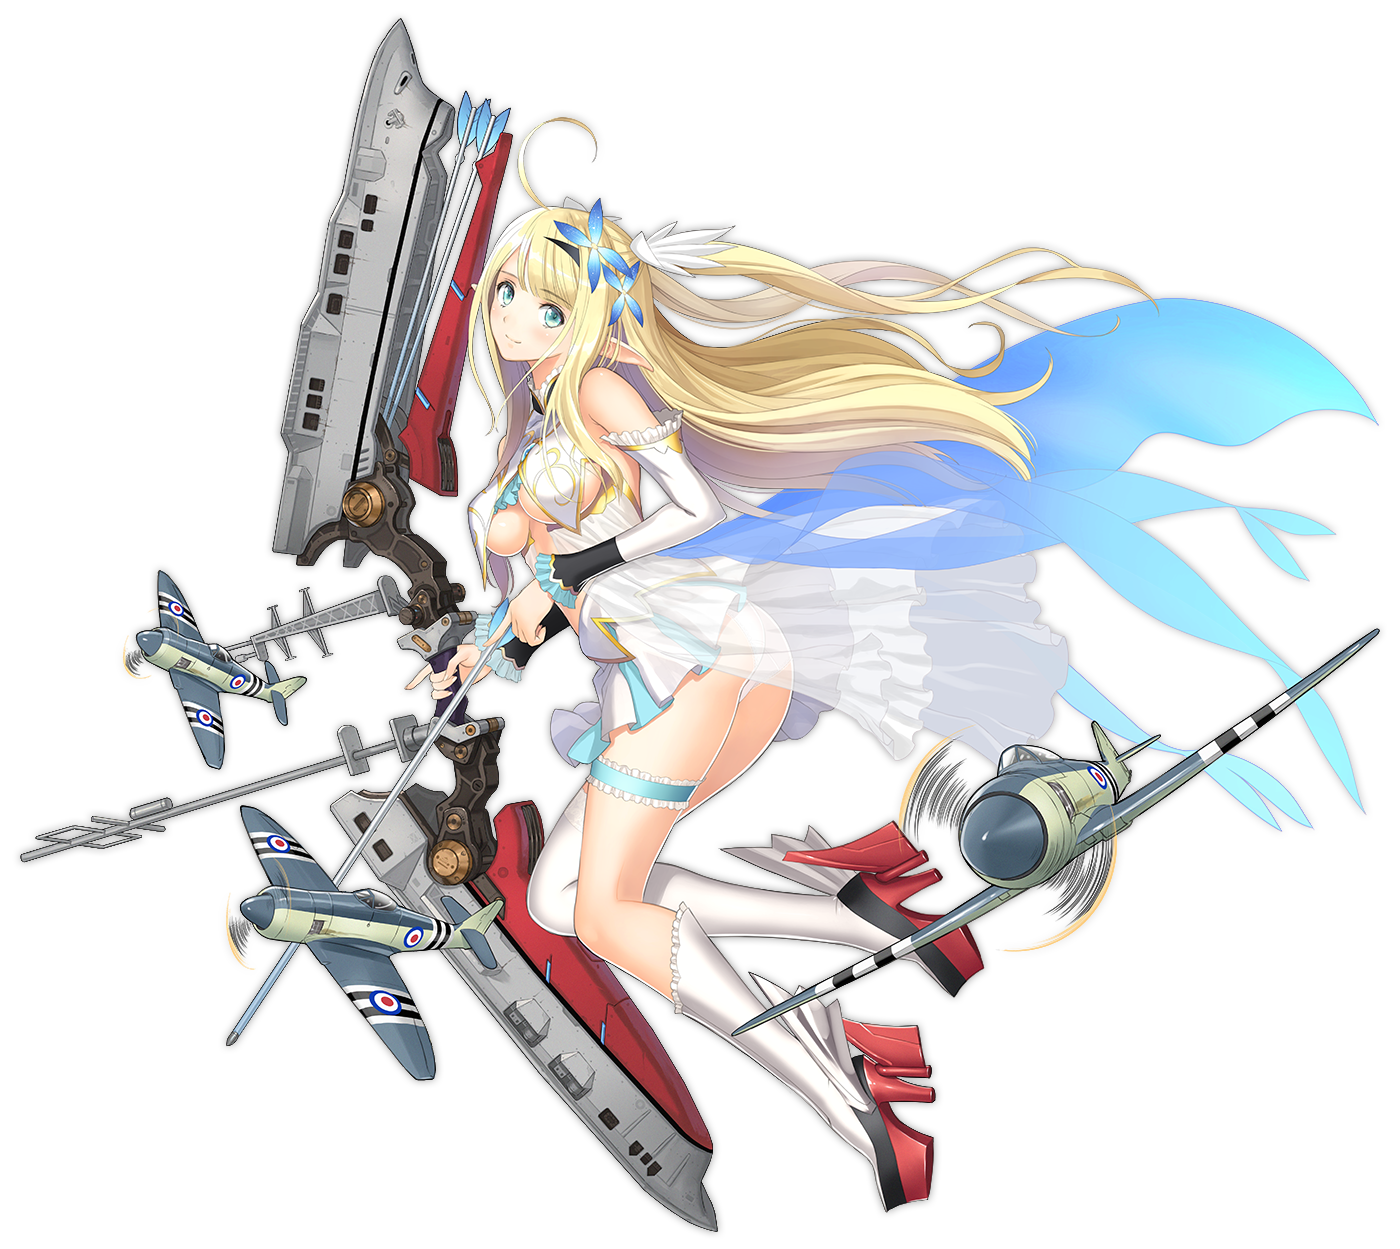person: (315, 201, 883, 1161)
